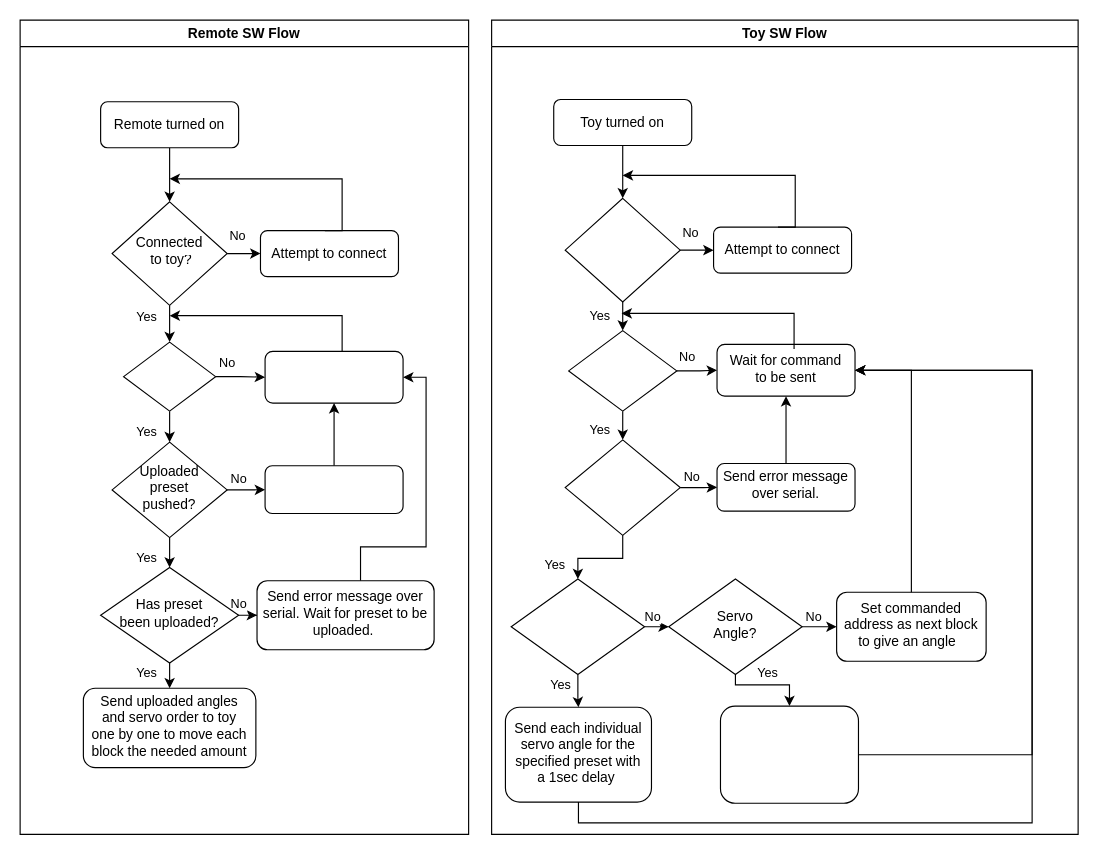
Some shapes in this 1098 by 854 pixel diagram are drawn without their labels. The centre of each missing label's shape, as x and y in pixels:
Command sent?: point (622, 370)
Command Valid?: point (622, 487)
Connected to remote?: point (622, 249)
Preset command?: point (577, 626)
Preset pushed?: point (169, 376)
Send servo angle to most recent address specified in memory: point (788, 754)
Send simple preset command to toy: point (333, 489)
Wait for button to be pushed: point (333, 376)
